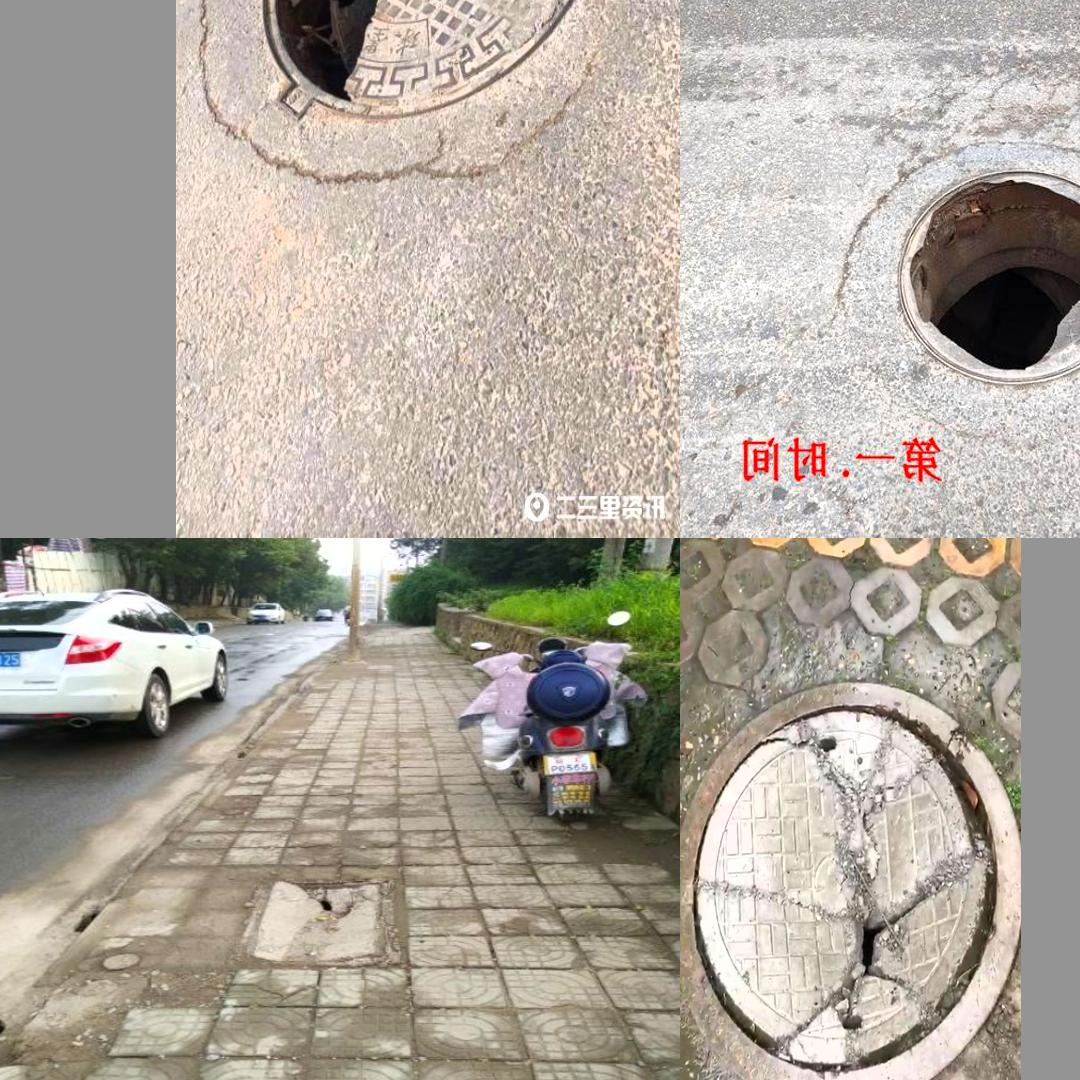broke: (688, 704, 997, 1076), (202, 0, 640, 211), (827, 137, 1080, 439), (241, 876, 402, 965)
